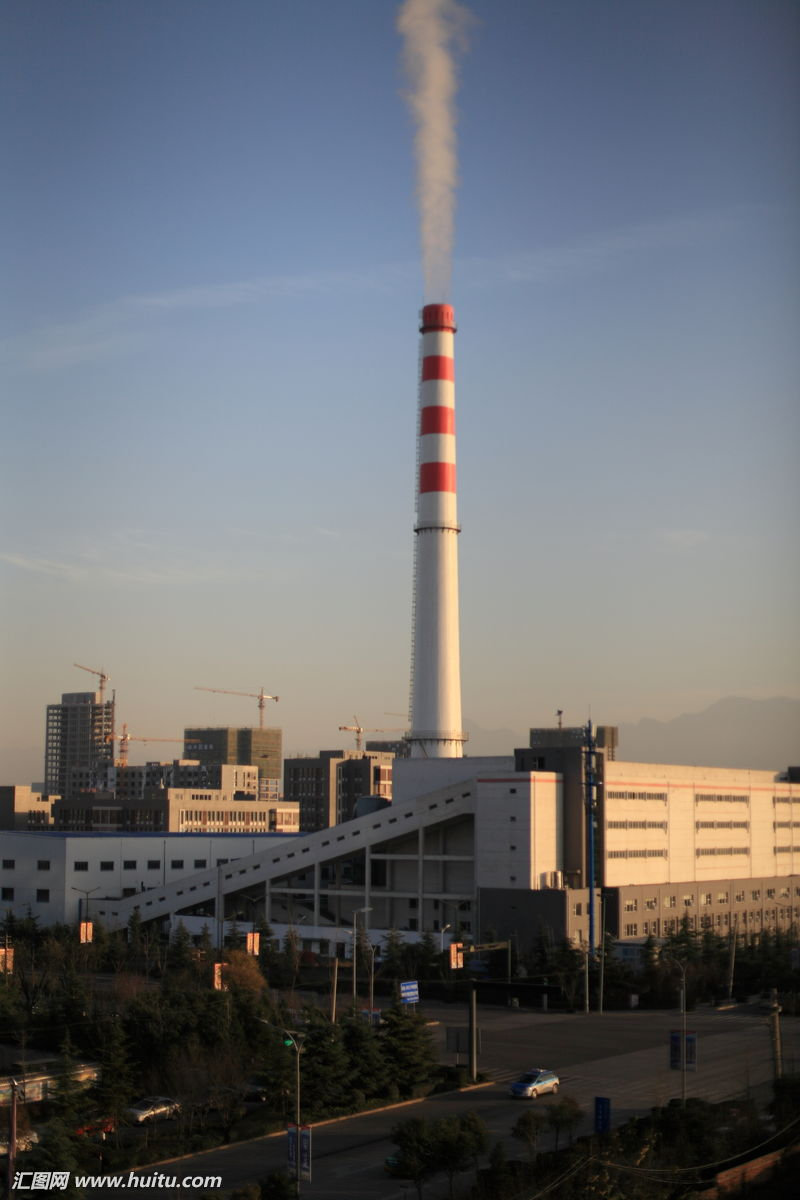dust: (376, 20, 511, 324)
